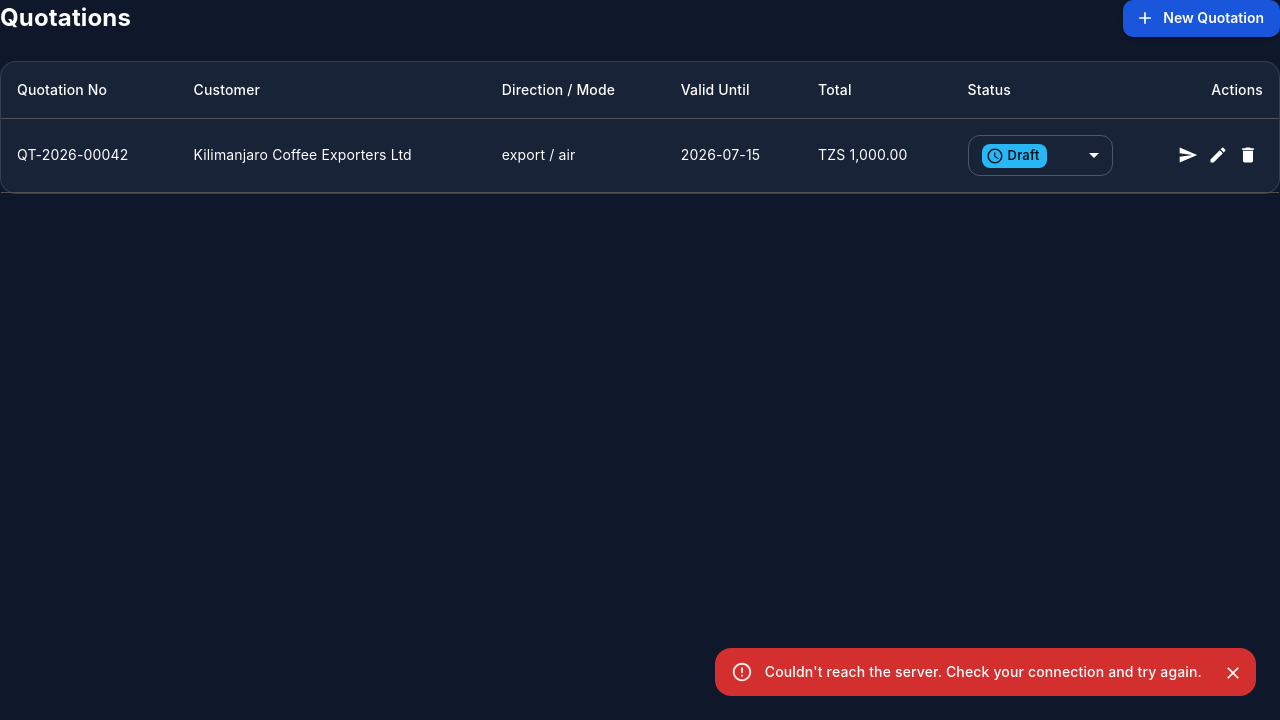
Scenario: QuotationsPage › deletes and shows a success toast when the confirmation dialog is confirmed
Expected: the text "QT-2026-00042" is shown, [1,118,178,193]
Click the button named "Delete".
click(1248, 155)  # box [1233,140,1263,170]
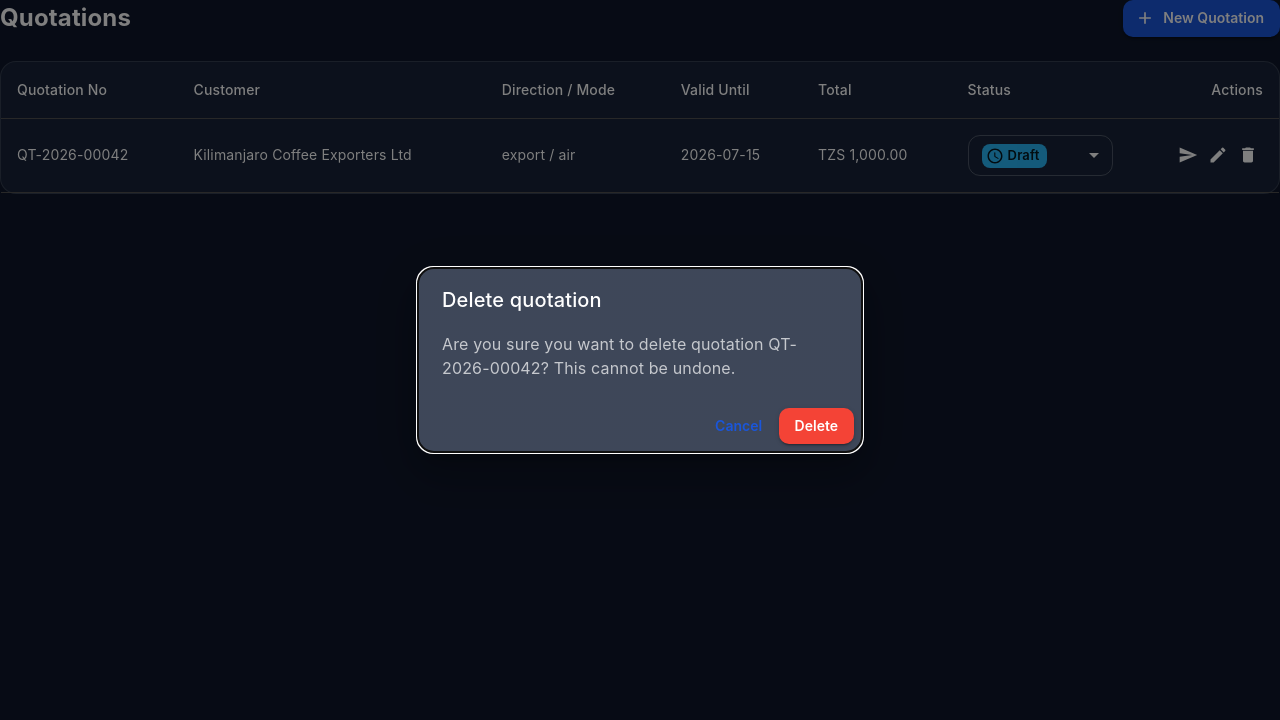
Expected: the heading "Delete quotation" is shown, [442,288,602,312]
Click the button "Delete".
click(816, 426)  # box [779,408,854,444]
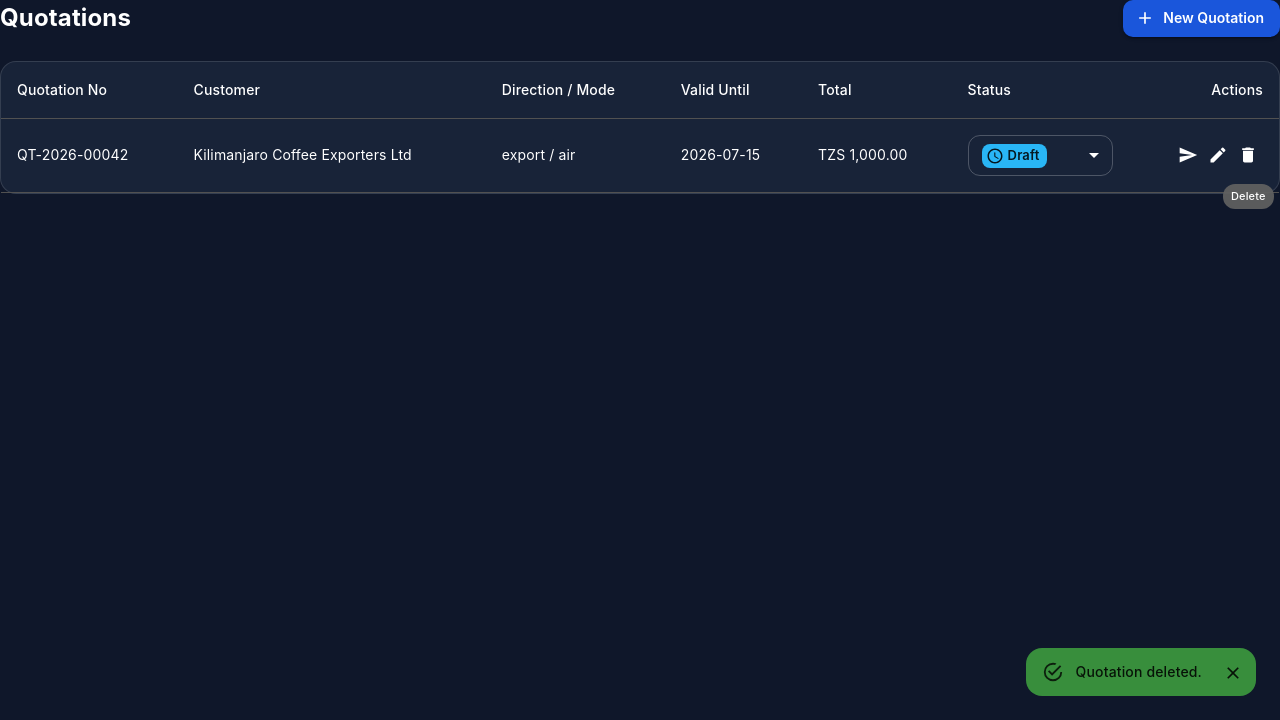
Expected: the text "Quotation deleted." is shown, [1076,663,1202,680]
